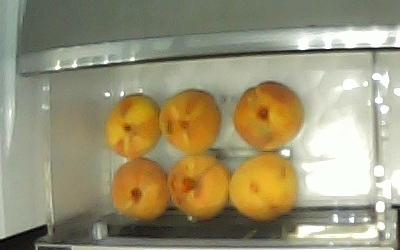peach: (234, 82, 304, 149), (229, 154, 296, 219), (158, 88, 220, 152), (167, 154, 229, 218), (111, 156, 171, 219), (105, 95, 161, 158)
